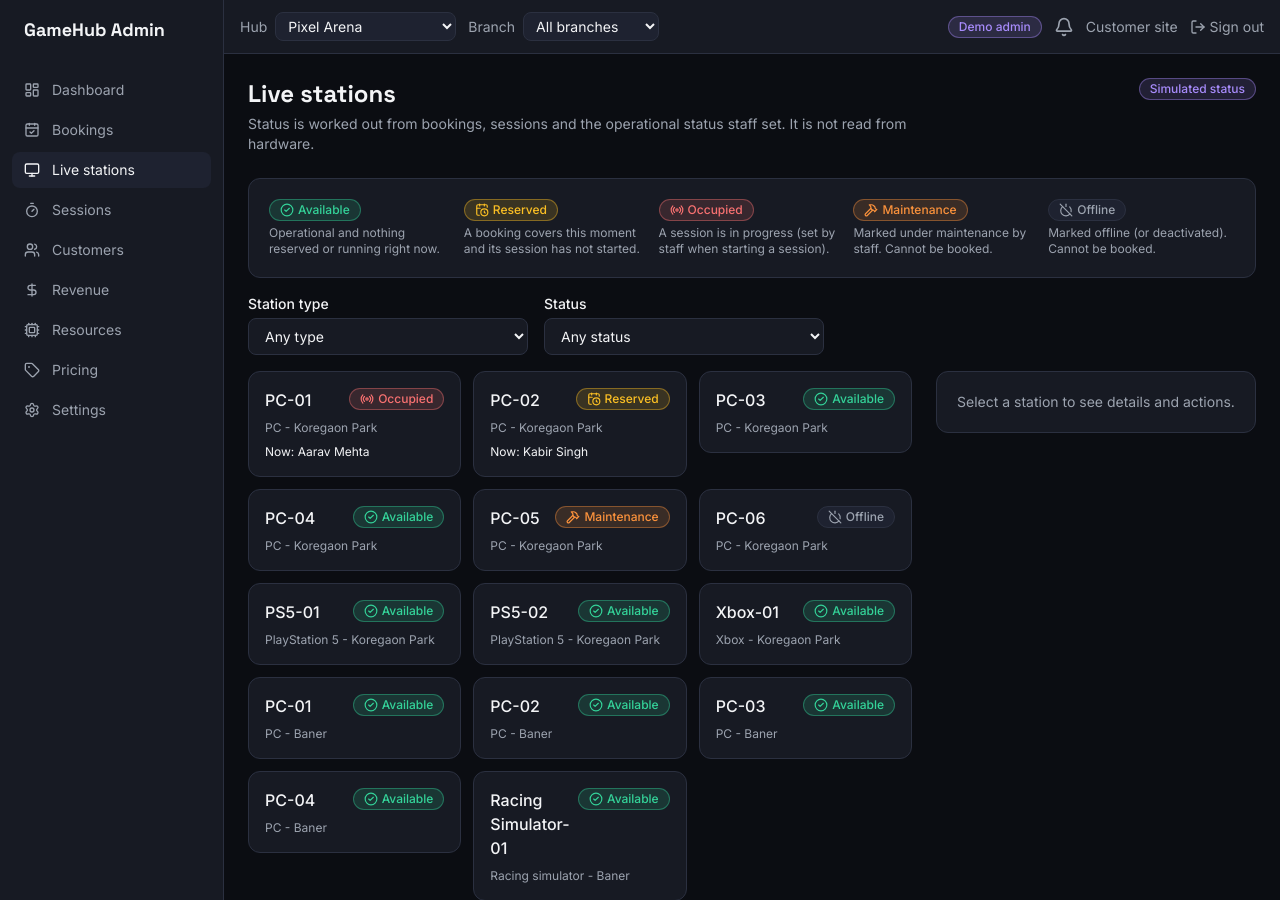
Test case: demo login and scope › scopes pages to the chosen branch
Step 1. Select "Baner" in the dropdown labelled "Branch" → (591, 26), box [523,12,659,41]
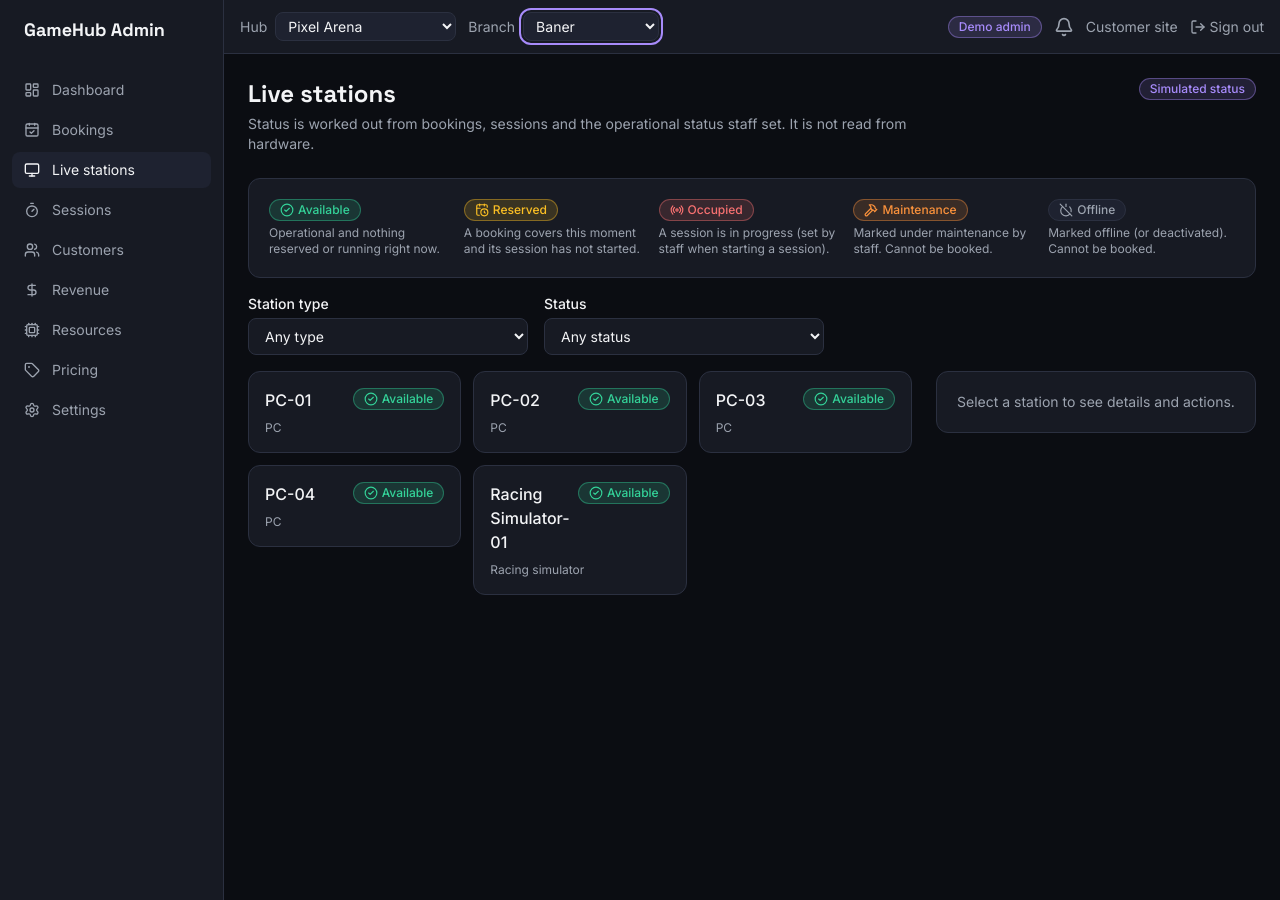
expect the number of buttons "PC-01 Available PC" is 5: met, box [248,371,461,453]; [473,371,687,453]; [699,371,912,453]; [248,465,461,547]; [473,465,687,595]
